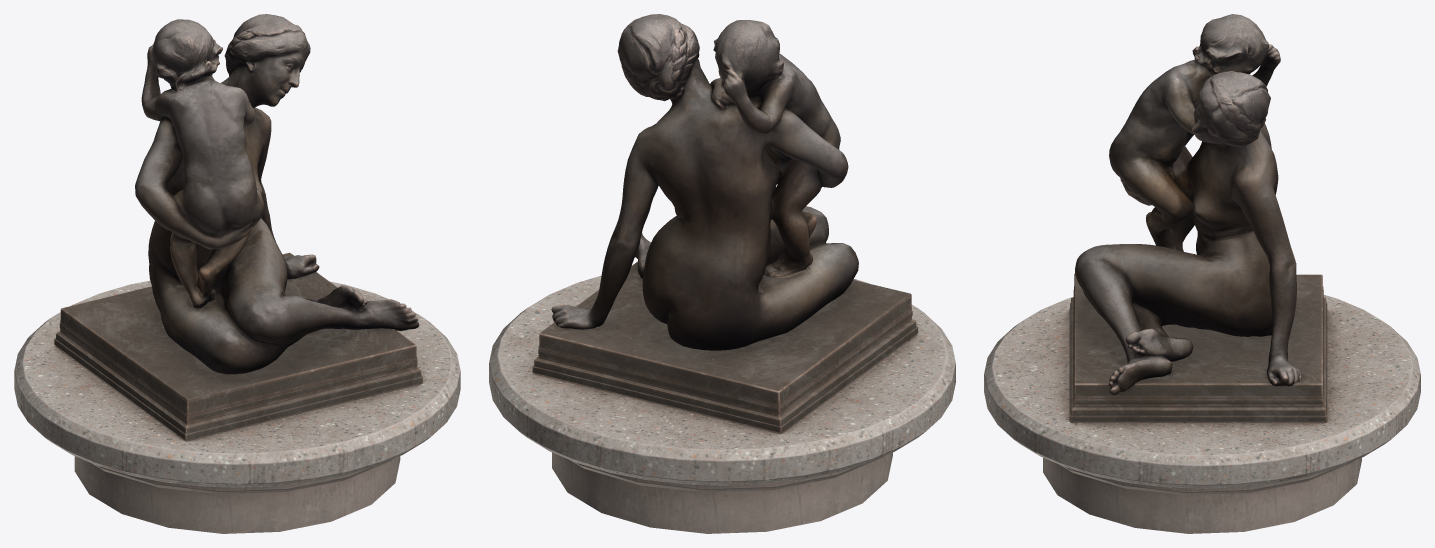
File: MotherAndChild.glb
3 renders of one model, left to right at view 1: azimuth 30°, elevation 25°; view 2: azimuth 150°, elevation 25°; view 3: azimuth 270°, elevation 25°, orthographic. The views are drawn at different scales.
Parts seen in each view (by area): view 1: Base_lowBAKE, MotherAndChild_lowBAKE; view 2: Base_lowBAKE, MotherAndChild_lowBAKE; view 3: Base_lowBAKE, MotherAndChild_lowBAKE.
Part boxes in pixels (x1,y1,x2,y2): Base_lowBAKE: [14, 252, 460, 533]; MotherAndChild_lowBAKE: [135, 14, 419, 374]; Base_lowBAKE: [489, 261, 955, 533]; MotherAndChild_lowBAKE: [551, 14, 858, 350]; Base_lowBAKE: [984, 274, 1420, 533]; MotherAndChild_lowBAKE: [1075, 14, 1301, 394].
Bounding box in the file's own units: 1.25 × 1.36 × 1.25.
Materials: 1 (1 with a texture image).
